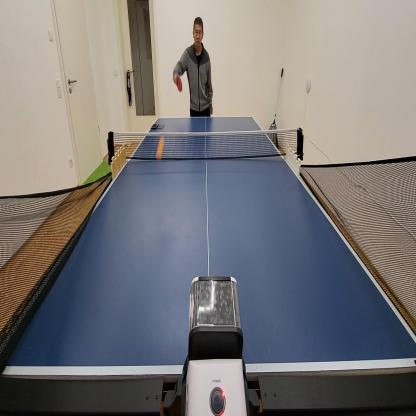Ball: (155, 136, 165, 160)
